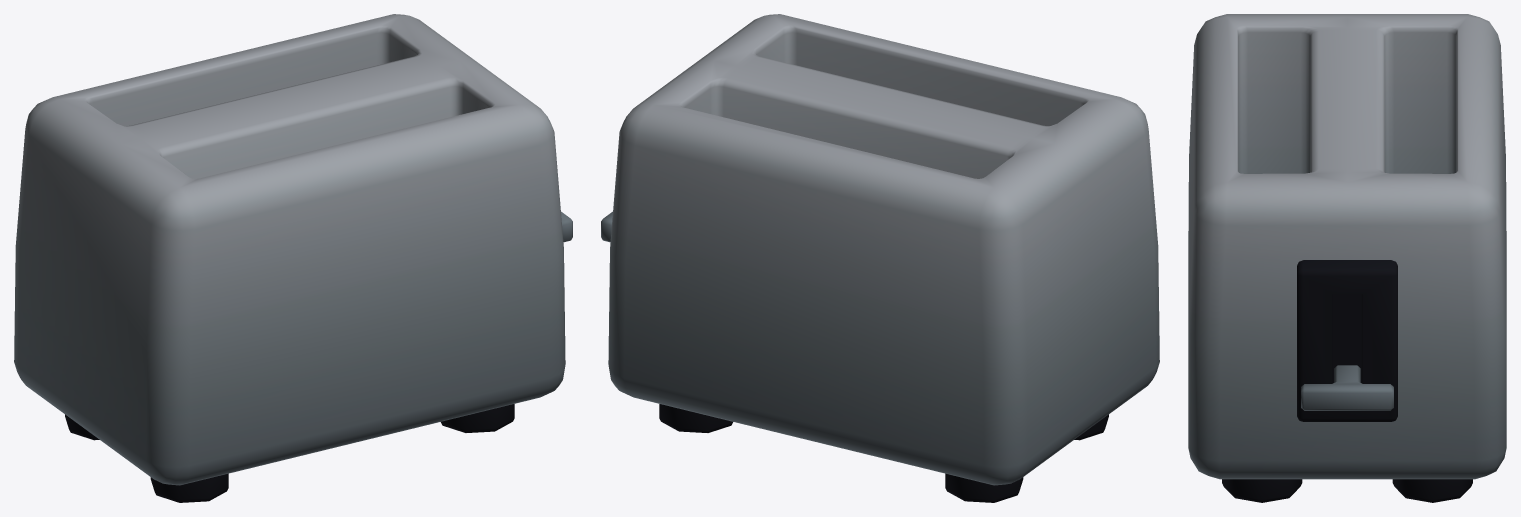
The model's file is Toaster_gray.fbx.
3 views of the same model, side by side, from view 1: azimuth 30°, elevation 25°; view 2: azimuth 150°, elevation 25°; view 3: azimuth 270°, elevation 25° (orthographic).
Parts seen in each view (by area): view 1: Toaster_gray; view 2: Toaster_gray; view 3: Toaster_gray, Toaster_switch.
Part boxes in pixels (x1,y1,x2,y2): Toaster_gray: (14,14,565,502); Toaster_gray: (608,14,1159,502); Toaster_gray: (1188,14,1506,502); Toaster_switch: (1301,365,1393,410).
Size of the model in its own units: 84.6 by 55.25 by 49.97.
